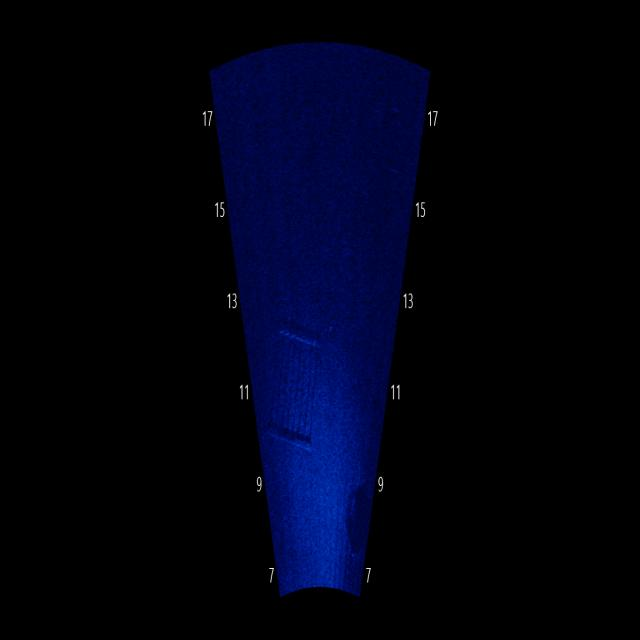square: (265, 292, 339, 488)
